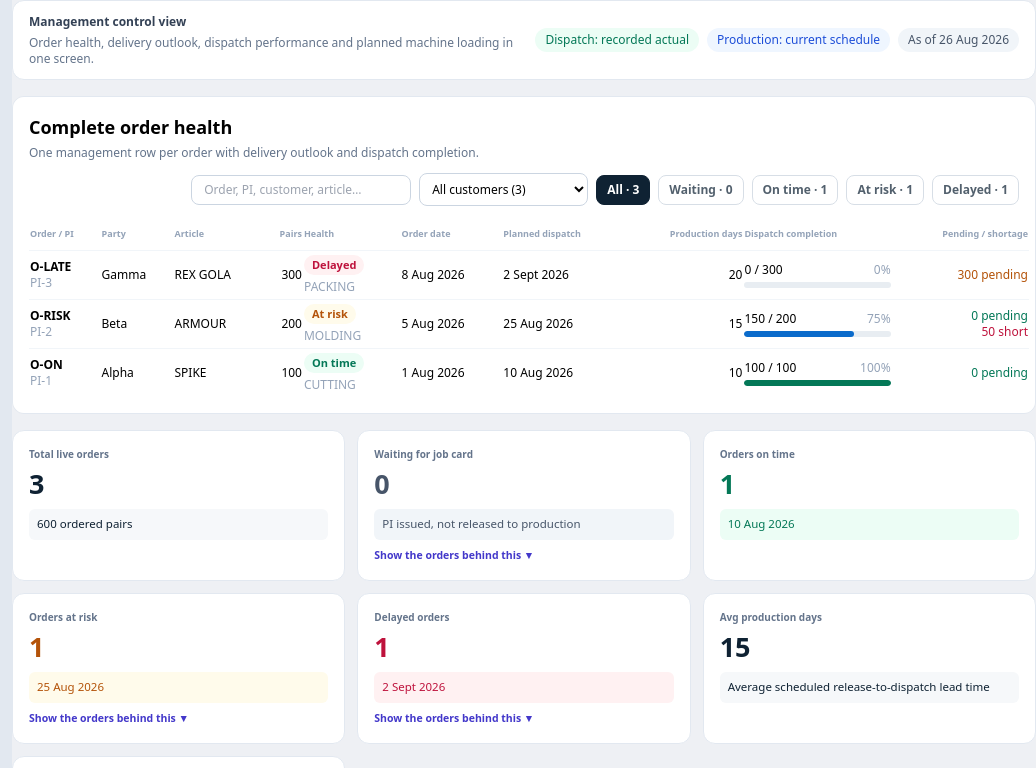
Test: Executive MIS dashboard › filters the complete order-health table without changing KPI totals
This screenshot has width=1036, height=768.
Click the button "Delayed · 1" at (976, 190), box [932,174,1019,204]
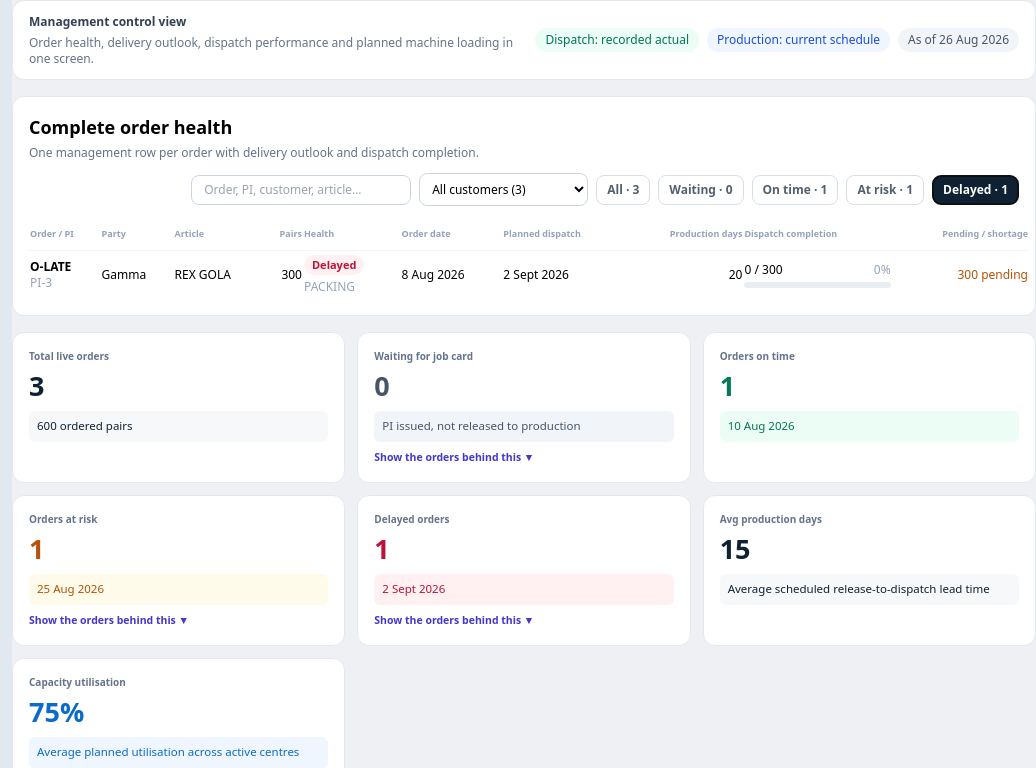
Expected: the text "O-LATE" is shown, [30,258,71,275]
Expected: the text "O-ON" is gone
